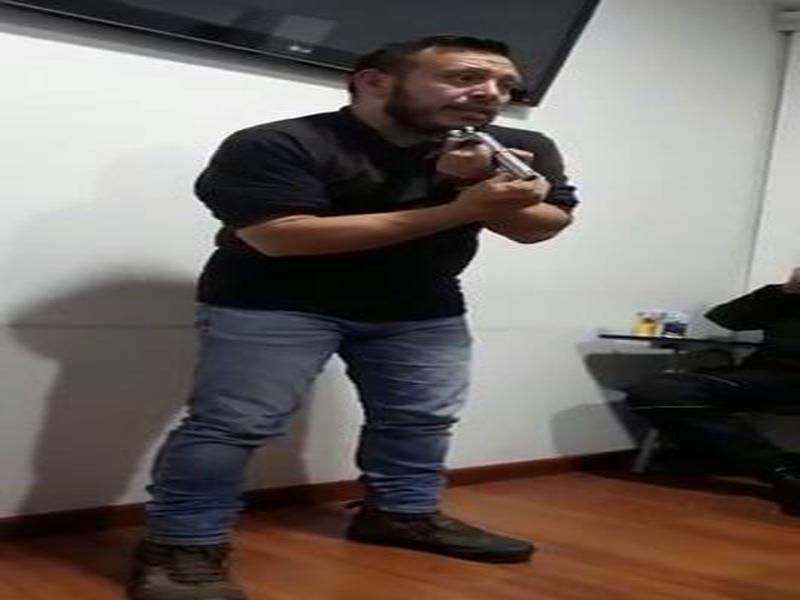Revolver: (434, 117, 572, 219)
